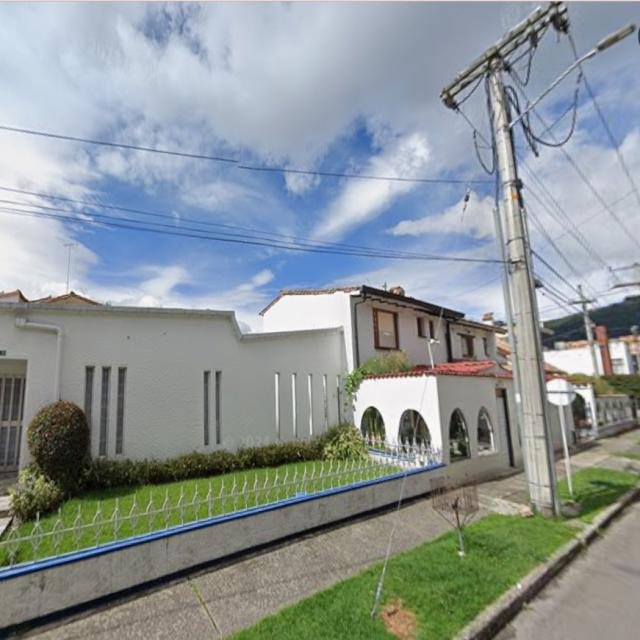fachada: (0, 286, 522, 475), (543, 327, 639, 375)
poste: (489, 57, 559, 515), (493, 207, 525, 458), (572, 285, 600, 379), (558, 406, 573, 497)
